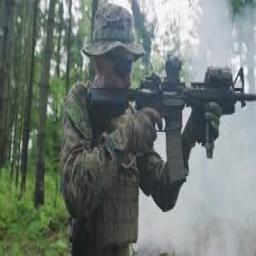Low smoke: (138, 20, 256, 256)
